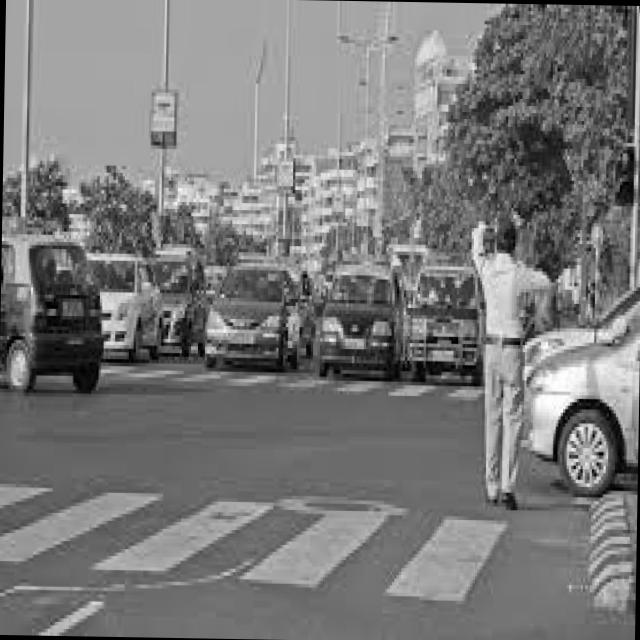car: (527, 287, 639, 496), (0, 234, 103, 392), (405, 255, 482, 384), (206, 263, 299, 367), (319, 264, 400, 376), (87, 253, 163, 361), (150, 250, 204, 356), (502, 327, 508, 343)
person: (473, 196, 555, 508)
